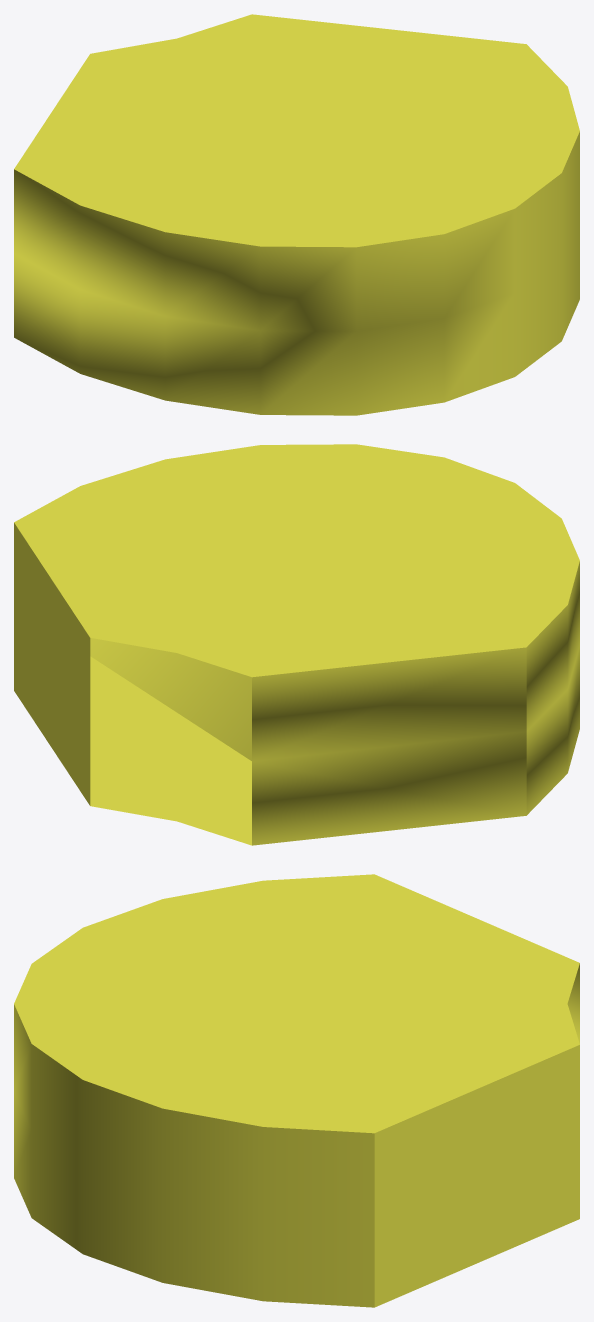
The model's file is coneShapeD.fbx.
3 views of the same model, one above another, from view 1: azimuth 30°, elevation 25°; view 2: azimuth 150°, elevation 25°; view 3: azimuth 270°, elevation 25° (orthographic). The views are drawn at different scales.
Visible parts, largest first — view 1: atkshp_cone; view 2: atkshp_cone; view 3: atkshp_cone.
Part boxes in pixels (x1=…): atkshp_cone: x1=14, y1=14, x2=579, y2=415; atkshp_cone: x1=14, y1=444, x2=579, y2=845; atkshp_cone: x1=14, y1=874, x2=579, y2=1307.
Bounding box in the file's own units: 2.26 × 0.7086 × 2.08.
